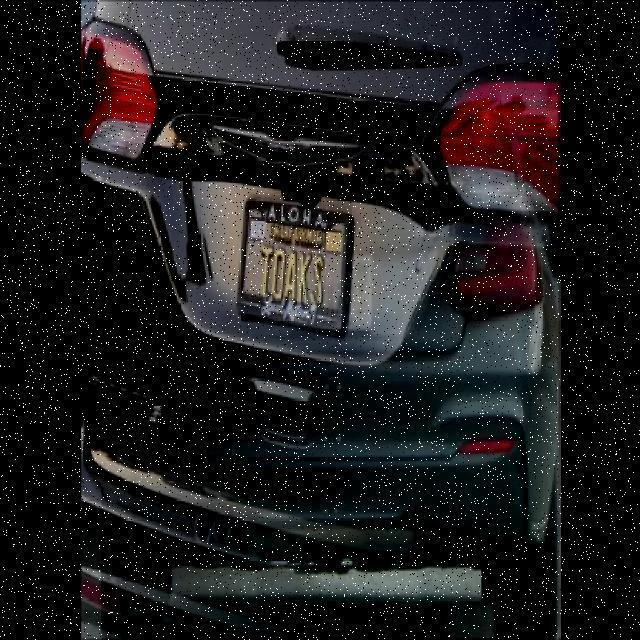License Plate: (244, 192, 344, 328)
